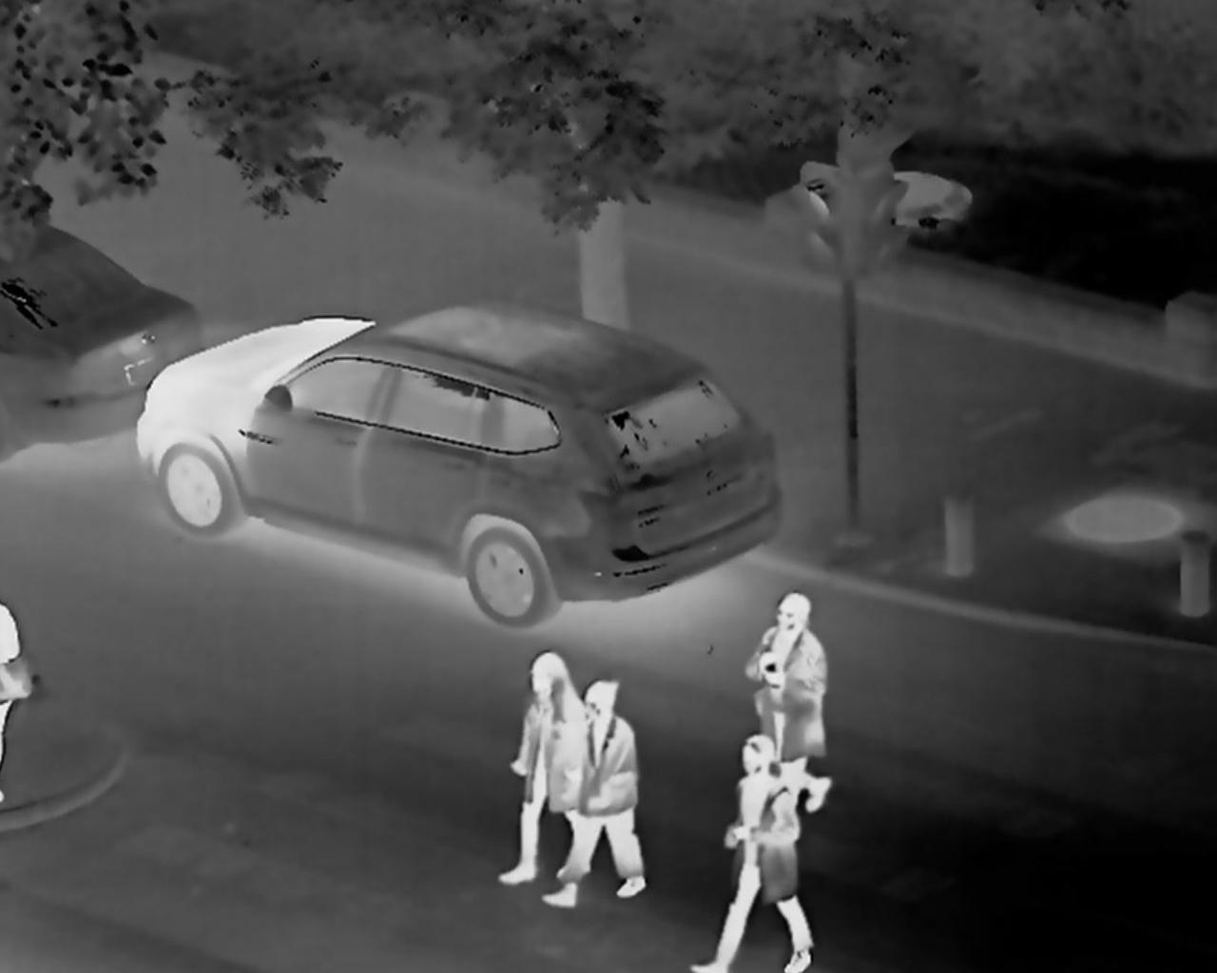person: (717, 725, 811, 973), (578, 663, 641, 925), (752, 580, 839, 704), (514, 622, 558, 855)
